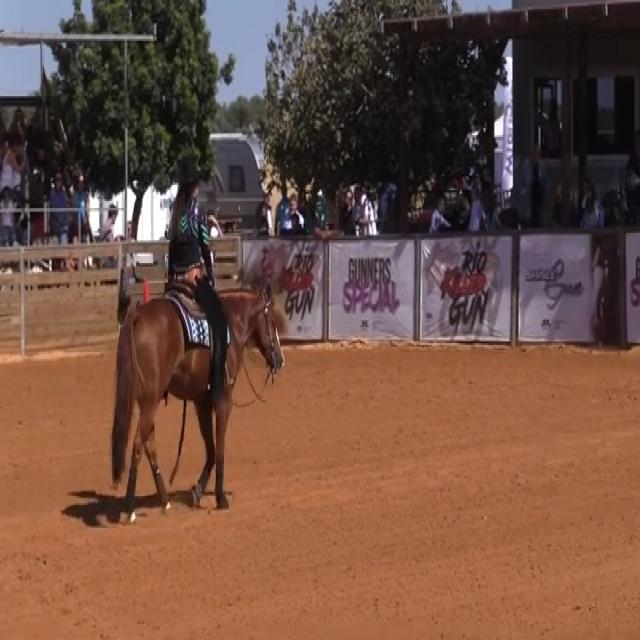horse: (108, 277, 285, 521)
